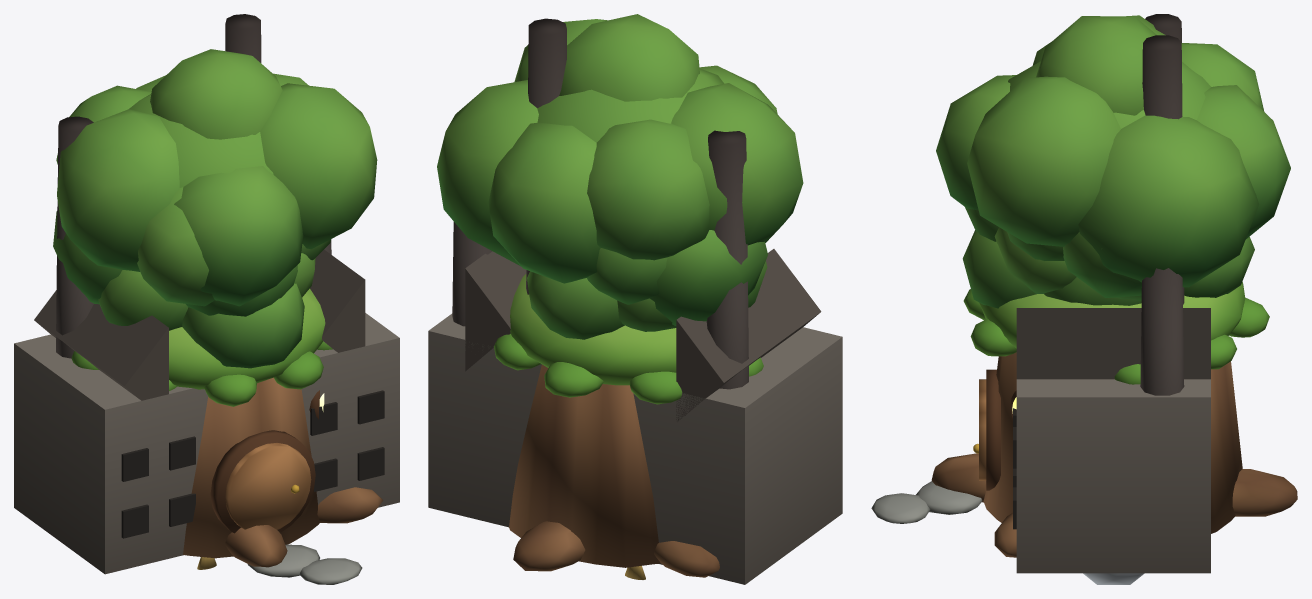
The model's file is village.glb.
3 views of the same model, side by side, from view 1: azimuth 30°, elevation 25°; view 2: azimuth 150°, elevation 25°; view 3: azimuth 270°, elevation 25° (orthographic). The views are drawn at different scales.
Parts seen in each view (by area): view 1: factory, tree_b, house_stump, tree_c, tree_a; view 2: factory, tree_b, house_stump, tree_a, tree_c; view 3: tree_b, factory, house_stump, tree_c, tree_a, cloud.
Part boxes in pixels (<box>): factory: <box>14,14,399,574</box>; tree_b: <box>56,49,377,306</box>; house_stump: <box>71,288,383,584</box>; tree_c: <box>98,253,315,368</box>; tree_a: <box>53,187,331,316</box>; factory: <box>428,18,842,584</box>; tree_b: <box>437,14,803,283</box>; house_stump: <box>494,274,763,577</box>; tree_a: <box>587,230,767,325</box>; tree_c: <box>527,261,767,339</box>; tree_b: <box>936,15,1290,287</box>; factory: <box>1013,14,1210,573</box>; house_stump: <box>871,282,1297,557</box>; tree_c: <box>962,227,1254,308</box>; tree_a: <box>965,207,1141,297</box>; cloud: <box>1083,573,1144,584</box>.
Size of the model in its own units: 3.02 by 5 by 3.51.
